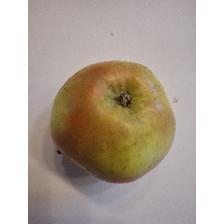Apfel: (47, 56, 177, 186)
